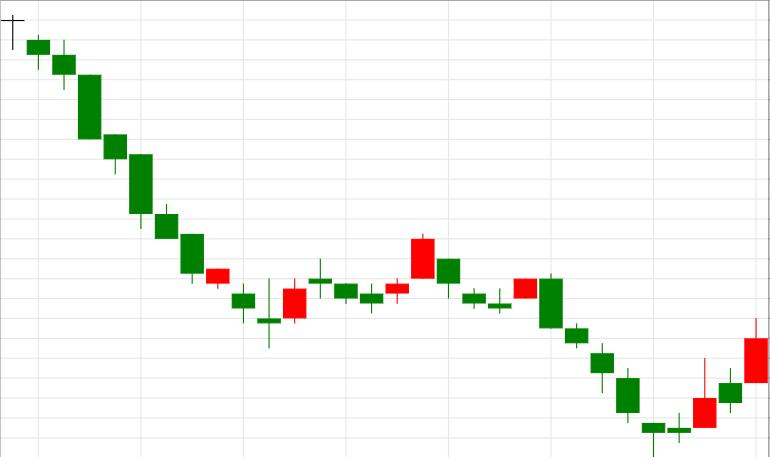inverse_hammer_rise: (540, 274, 717, 457)
morning_star_rise: (2, 15, 306, 349)
